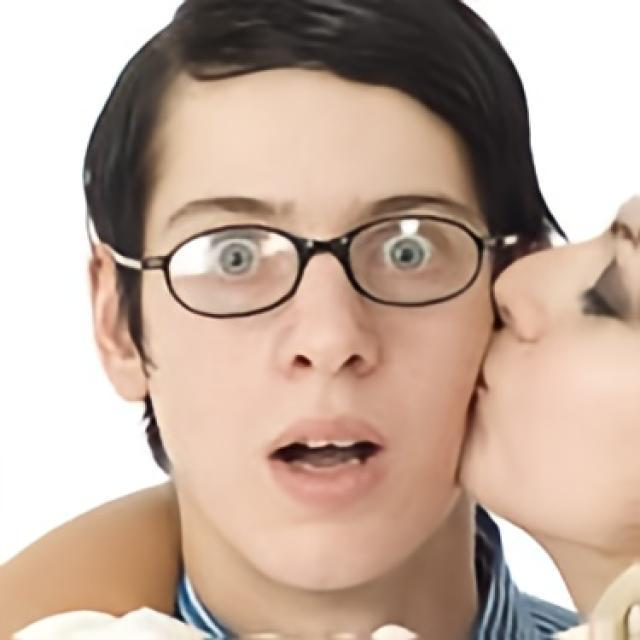fear: (132, 61, 497, 594)
